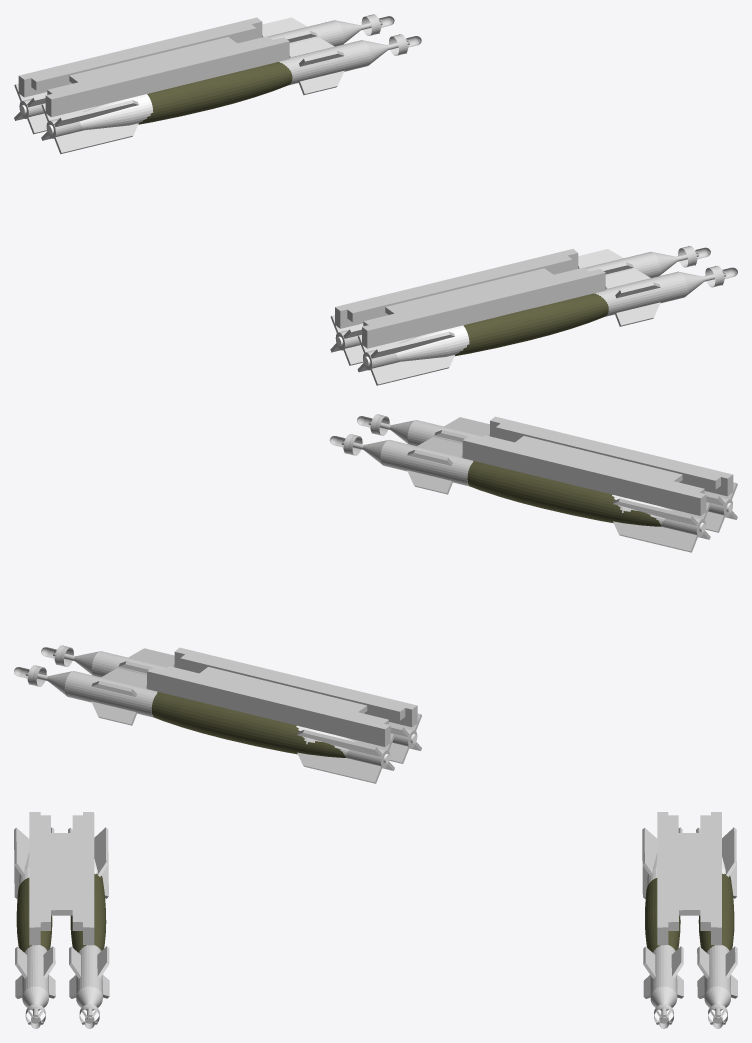
File: f18fgbu1234.glb
3 views of the same model, one above another, from view 1: azimuth 30°, elevation 25°; view 2: azimuth 150°, elevation 25°; view 3: azimuth 270°, elevation 25° (orthographic).
Parts seen in each view (by area): view 1: 円柱.004, 立方体.009, 円柱.008, 立方体.010, 円柱.005, 円柱.009; view 2: 円柱.009, 立方体.010, 円柱.005, 立方体.009, 円柱.008, 円柱.004; view 3: 立方体.010, 立方体.009, 円柱.004, 円柱.008, 円柱.005, 円柱.009.
Boxes of the visible parts, x1,y1,x2,y2 form: 円柱.004: [357, 265, 737, 385]; 立方体.009: [18, 17, 289, 117]; 円柱.008: [41, 34, 421, 154]; 立方体.010: [335, 249, 605, 348]; 円柱.005: [330, 246, 710, 365]; 円柱.009: [14, 14, 394, 134]; 円柱.009: [14, 665, 394, 783]; 立方体.010: [462, 416, 733, 515]; 円柱.005: [329, 434, 710, 552]; 立方体.009: [147, 647, 417, 746]; 円柱.008: [41, 645, 421, 763]; 円柱.004: [357, 414, 737, 532]; 立方体.010: [29, 812, 94, 945]; 立方体.009: [657, 812, 721, 945]; 円柱.004: [14, 827, 55, 1028]; 円柱.008: [642, 827, 683, 1028]; 円柱.005: [68, 827, 109, 1028]; 円柱.009: [696, 827, 737, 1028].
Bounding box in the file's own units: 3.69 × 0.4917 × 6.25.
Materials: 2 (1 with a texture image).
